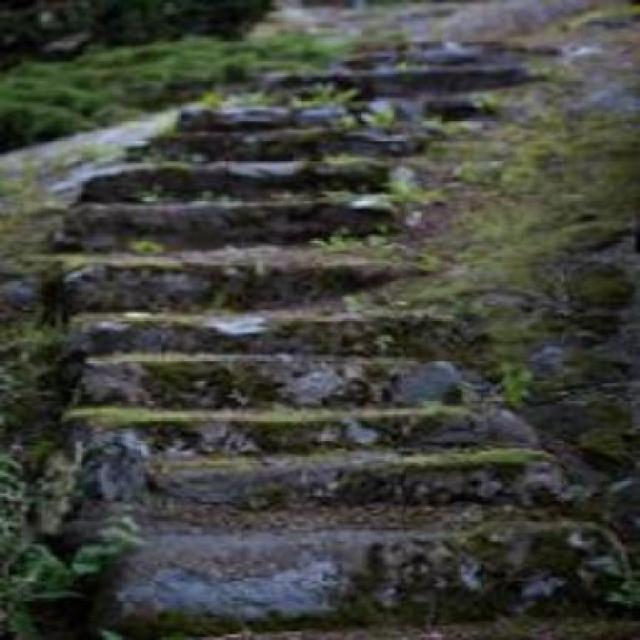stair: (65, 144, 631, 640)
